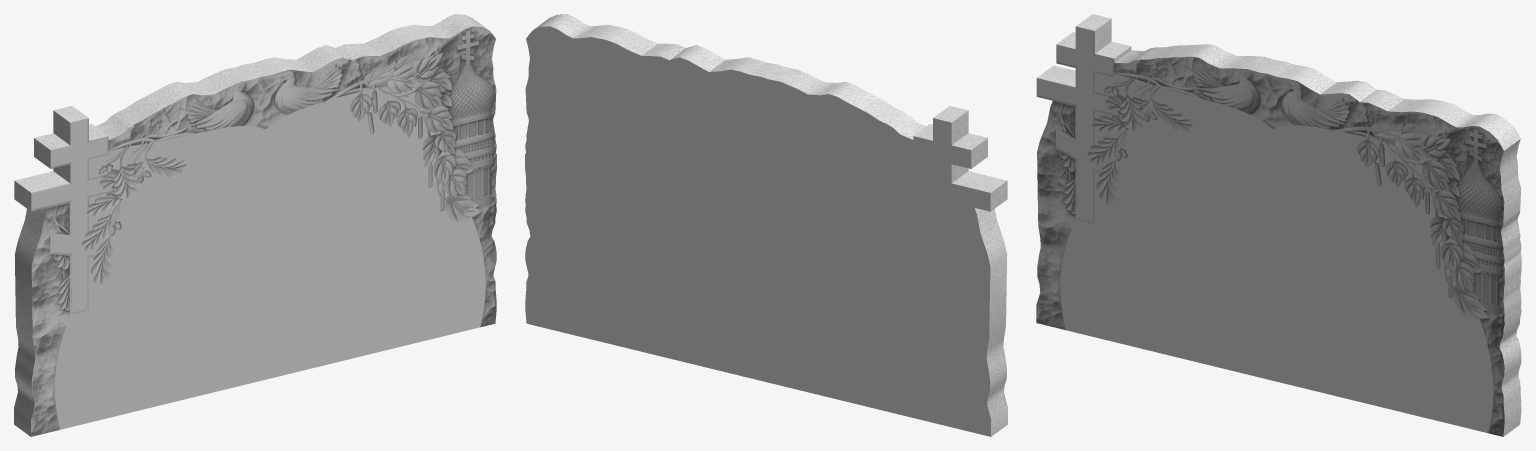
File: cn5c848be5b3_tkf.glb
3 views of the same model, side by side, from view 1: azimuth 30°, elevation 25°; view 2: azimuth 150°, elevation 25°; view 3: azimuth 330°, elevation 25° (orthographic).
Visible parts, largest first — view 1: Pam-d02-121, Pam-d02-121_2_notexture; view 2: Pam-d02-121, Pam-d02-121_2_notexture; view 3: Pam-d02-121, Pam-d02-121_2_notexture.
Boxes of the visible parts, x1,y1,x2,y2 form: Pam-d02-121: [33, 82, 485, 429]; Pam-d02-121_2_notexture: [14, 14, 496, 436]; Pam-d02-121: [525, 26, 990, 436]; Pam-d02-121_2_notexture: [533, 14, 1007, 436]; Pam-d02-121: [1038, 28, 1493, 432]; Pam-d02-121_2_notexture: [1036, 14, 1521, 436].
Size of the model in its own units: 0.8 by 0.5 by 0.05.
1 material, 1 textured.
